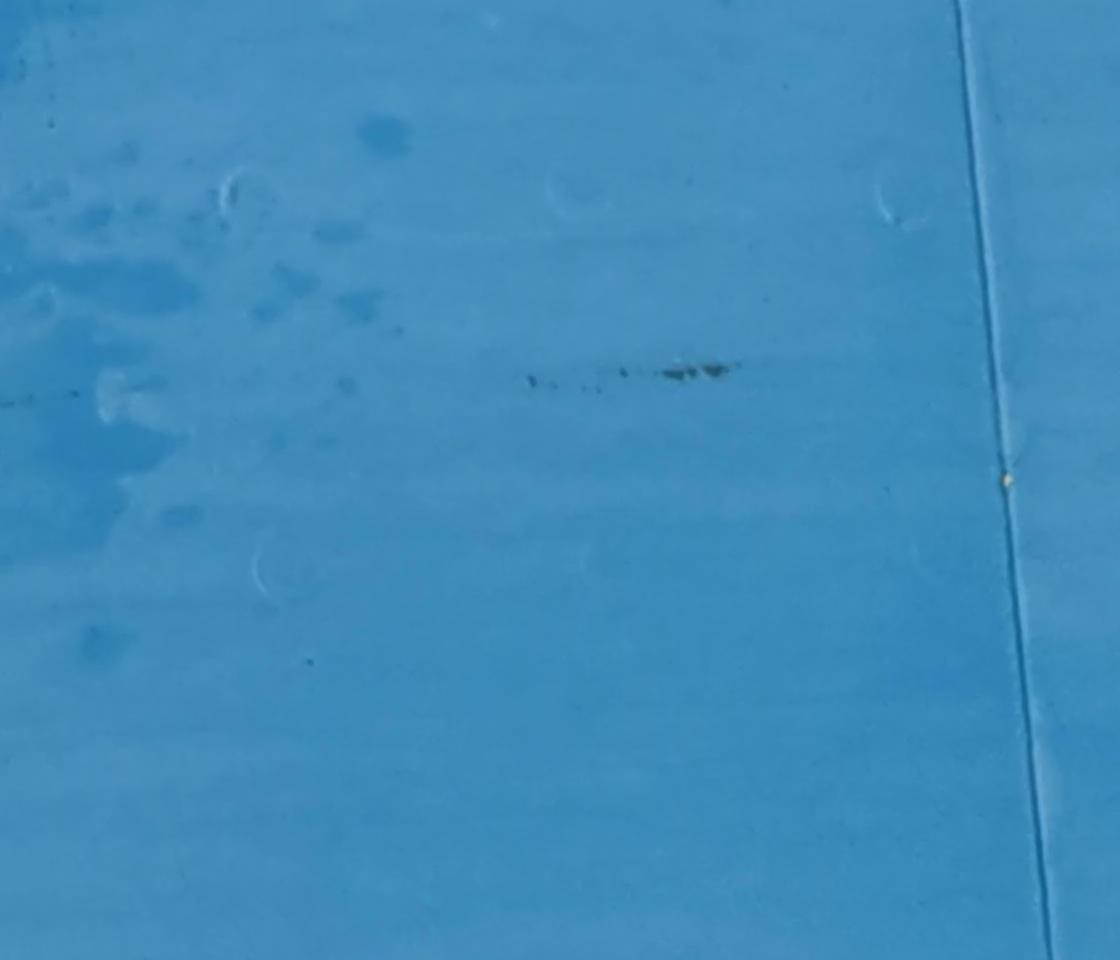scratch: (646, 364, 740, 382)
